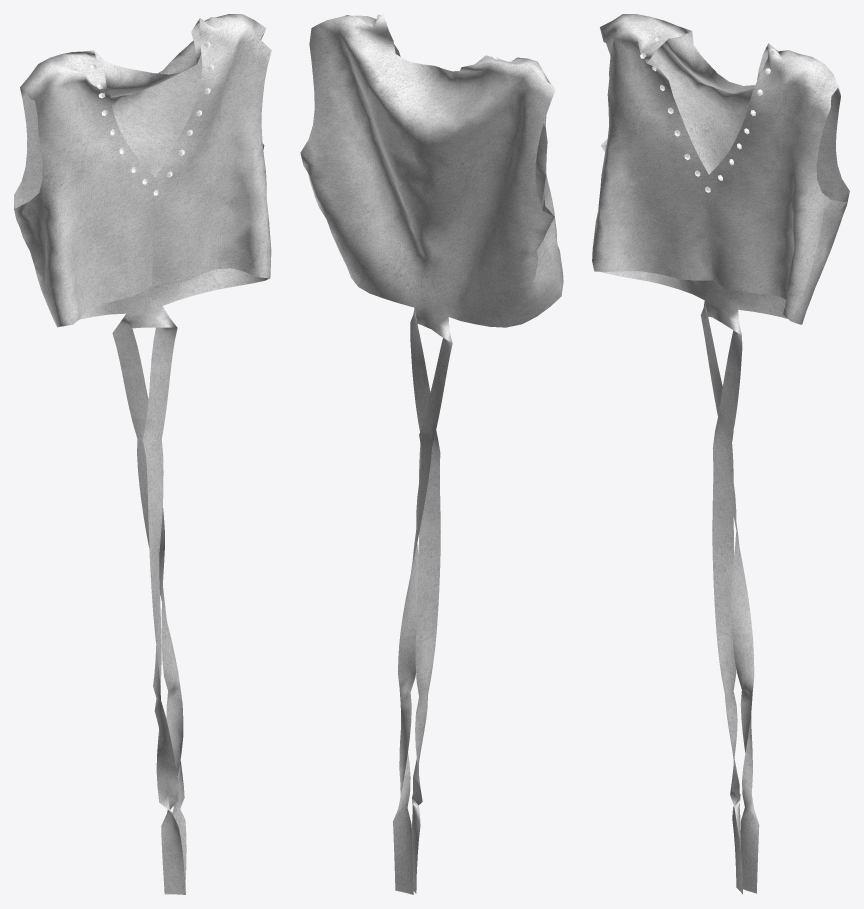
The model's file is top03.fbx.
The picture shows the model from 3 angles, left to right: view 1: azimuth 30°, elevation 25°; view 2: azimuth 150°, elevation 25°; view 3: azimuth 330°, elevation 25°; orthographic projection. The views are drawn at different scales.
Visible parts, largest first — view 1: top03; view 2: top03; view 3: top03.
Part boxes in pixels (bbox=[...]): top03: bbox=[14, 14, 271, 894]; top03: bbox=[300, 14, 563, 894]; top03: bbox=[592, 14, 849, 894].
Bounding box in the file's own units: 325 × 1080 × 107.
